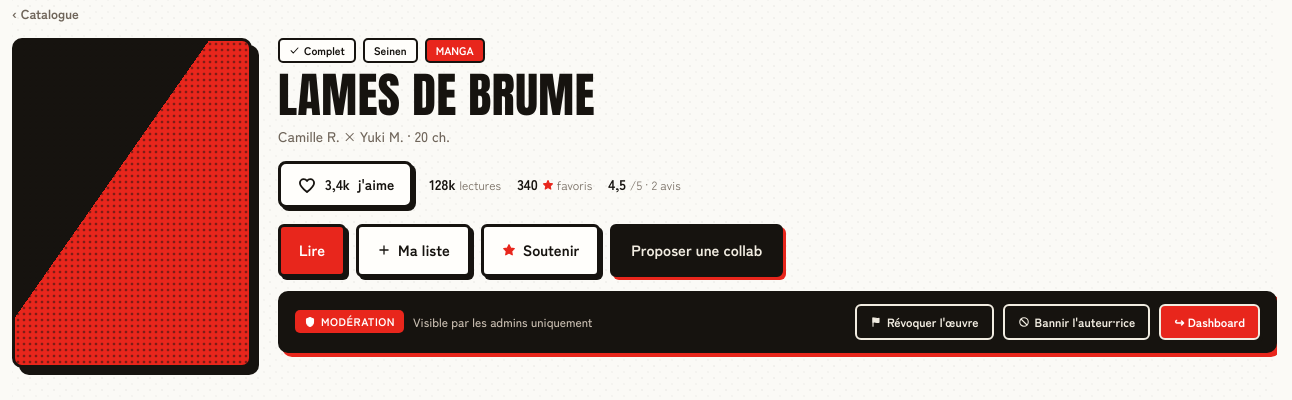
Test: WorkHero (DR-3 FE-2) › MC-3: "Proposer une collab" on a work with no other creators shows the deferred affordance
The image size is (1292, 400).
Click the button "Proposer une collab" at (697, 250), box [610,224,783,277]
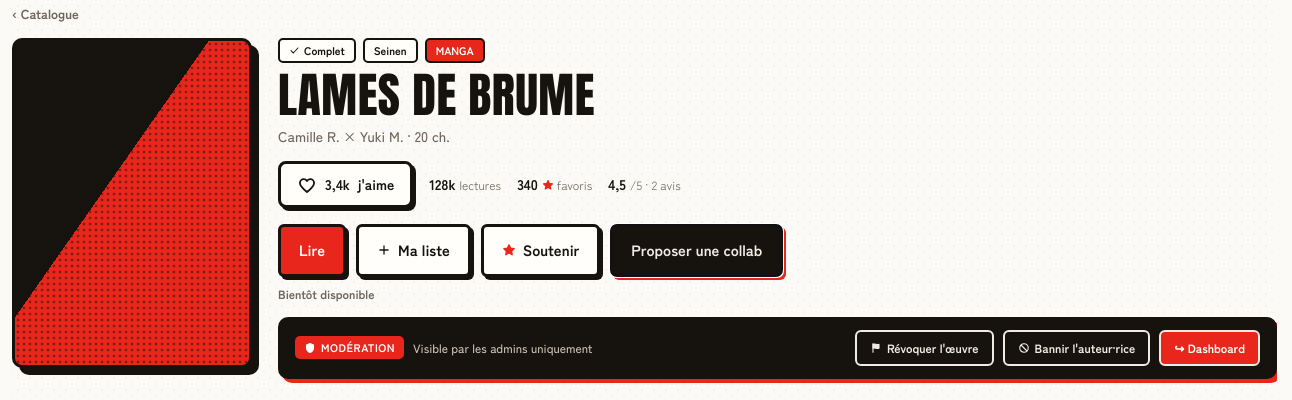
Result: the text "Bientôt disponible" is shown at [278,285,374,302]
